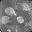people: (4, 7, 16, 16), (1, 16, 11, 24), (17, 16, 25, 24)
